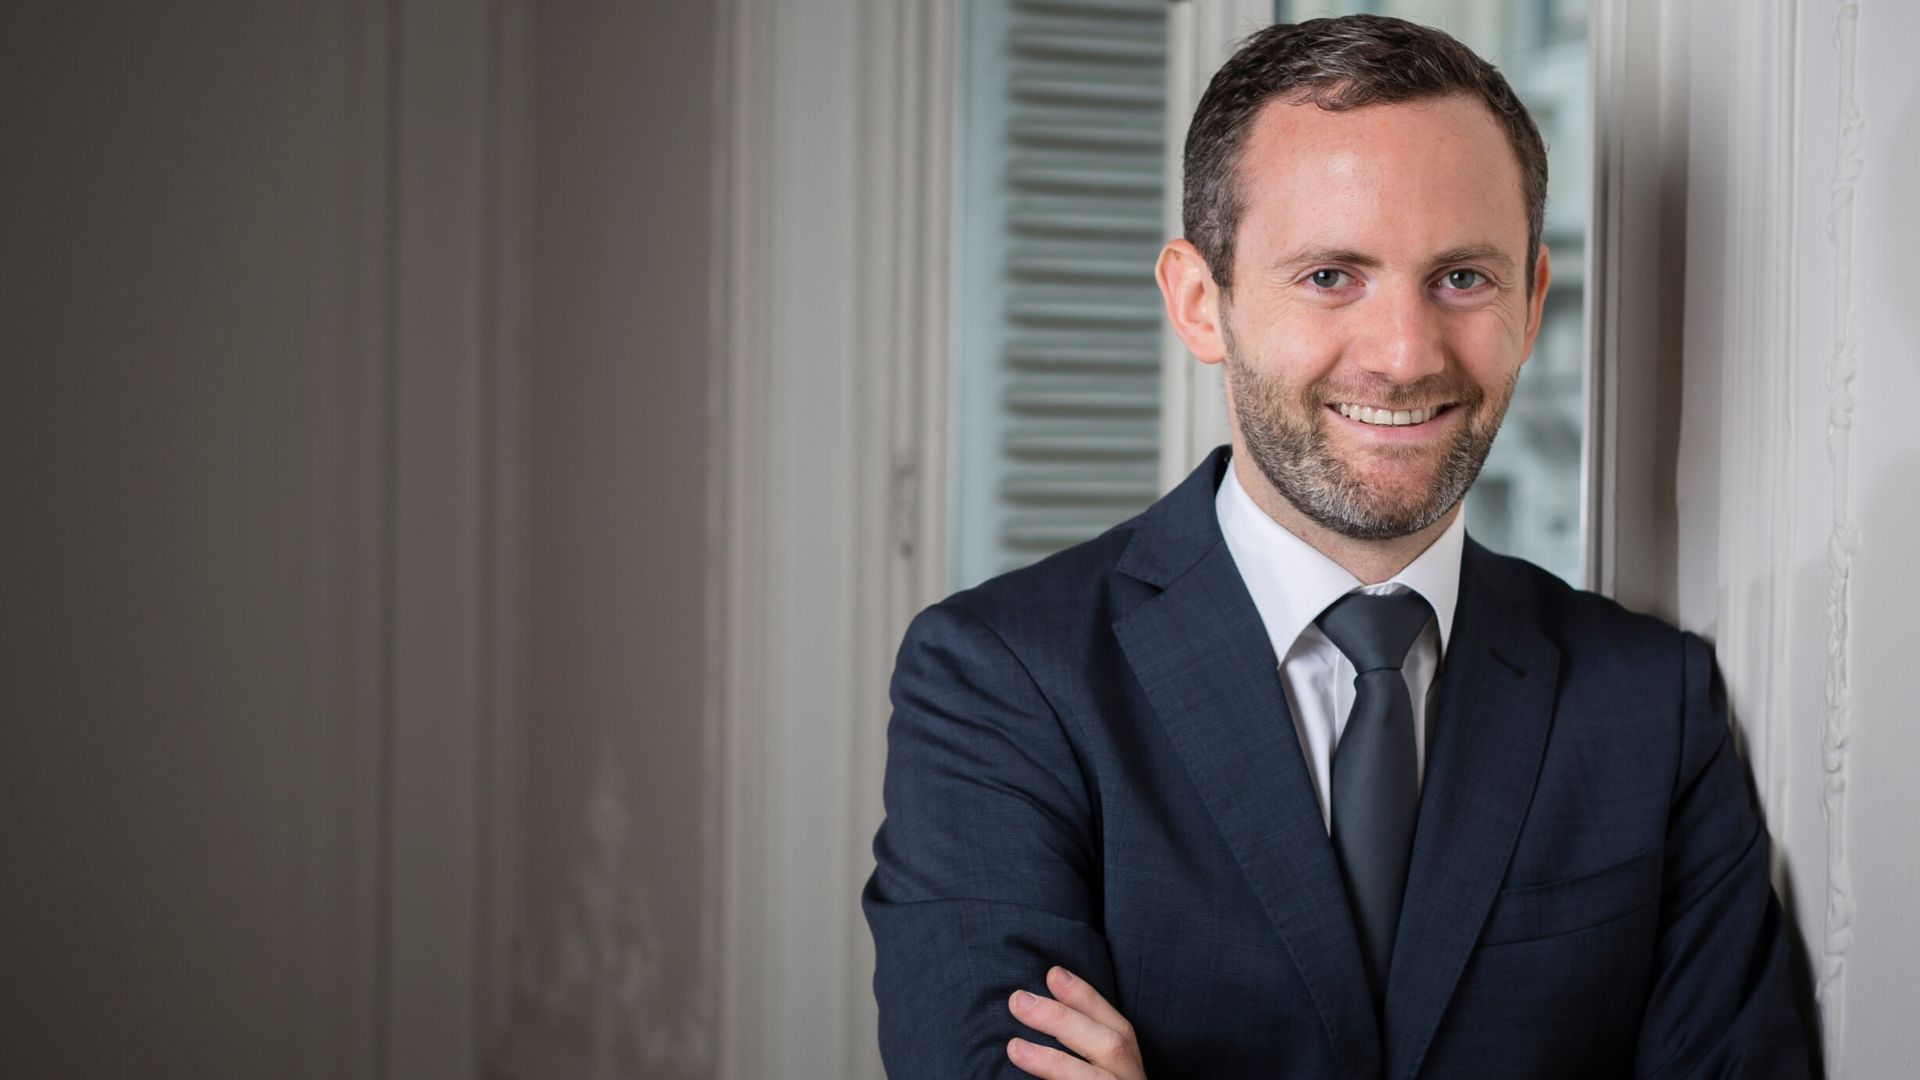without_mask: (1232, 209, 1493, 545)
